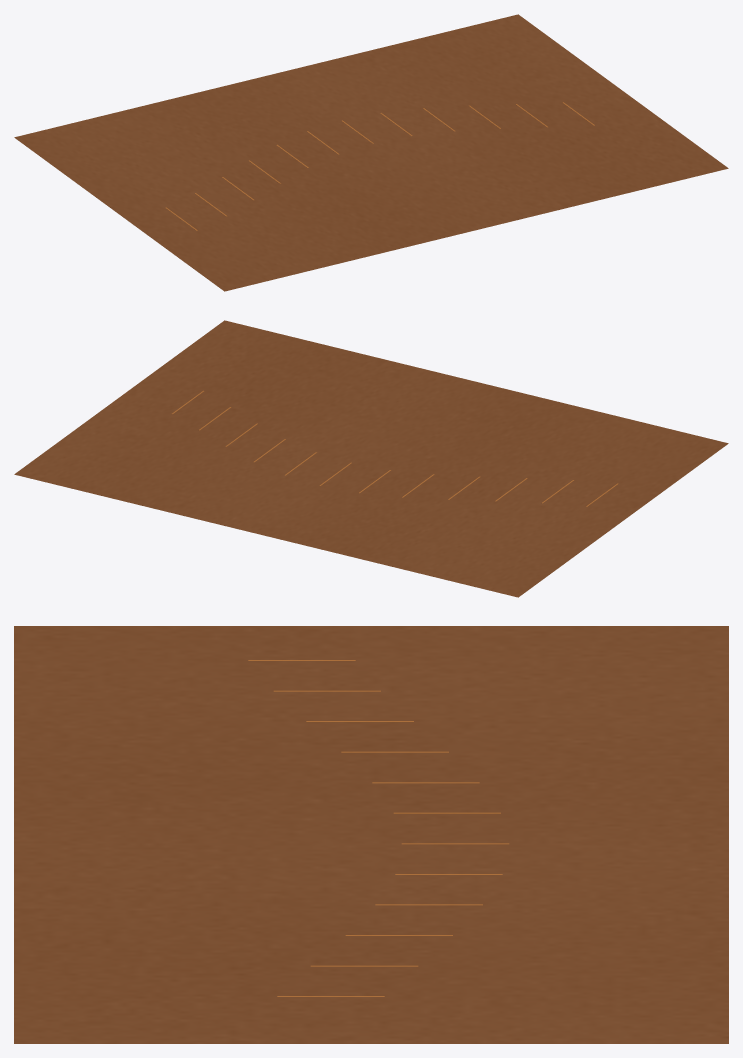
File: 278_L120_L13_LayerReference.obj
3 views of the same model, one above another, from view 1: azimuth 30°, elevation 25°; view 2: azimuth 150°, elevation 25°; view 3: azimuth 270°, elevation 25° (orthographic). The views are drawn at different scales.
Parts seen in each view (by area): view 1: 278_L120_L13_LayerReference; view 2: 278_L120_L13_LayerReference; view 3: 278_L120_L13_LayerReference.
Boxes of the visible parts, left/top/right/bottom form: 278_L120_L13_LayerReference: left=14, top=14, right=728, bottom=291; 278_L120_L13_LayerReference: left=14, top=320, right=728, bottom=597; 278_L120_L13_LayerReference: left=14, top=626, right=728, bottom=1043.
Bounding box in the file's own units: 0.506 × 0.000142 × 0.366.
2 materials, 2 textured.
